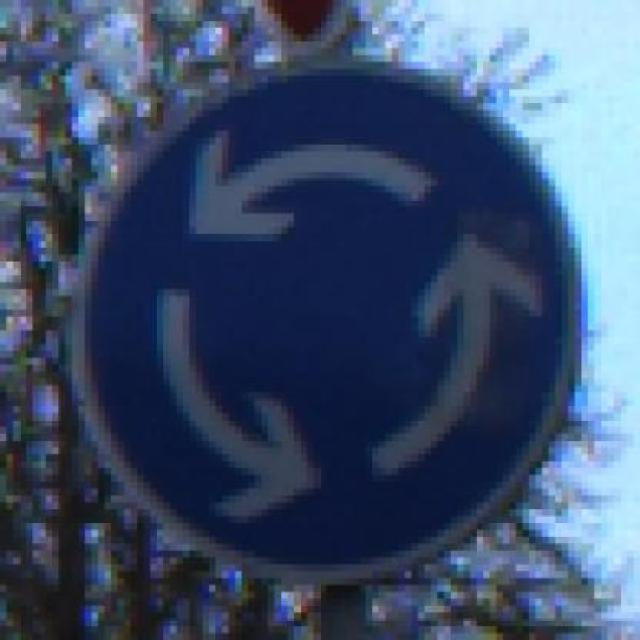Round-About: (38, 61, 608, 598)
